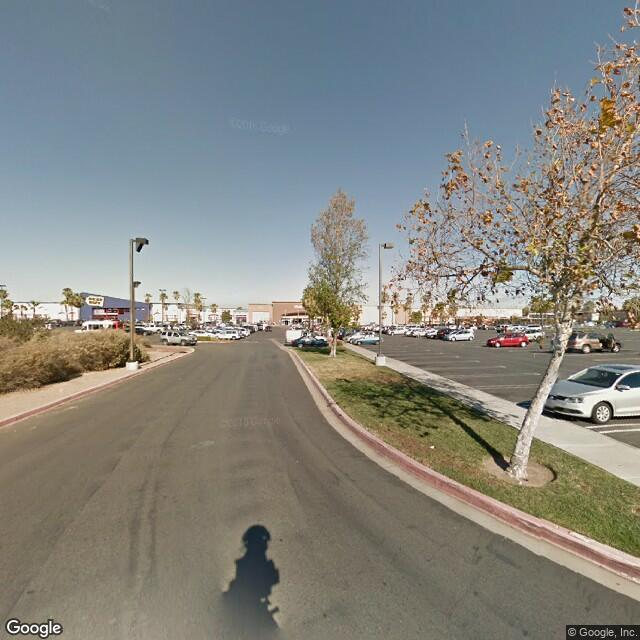litter: (428, 442, 436, 450)
